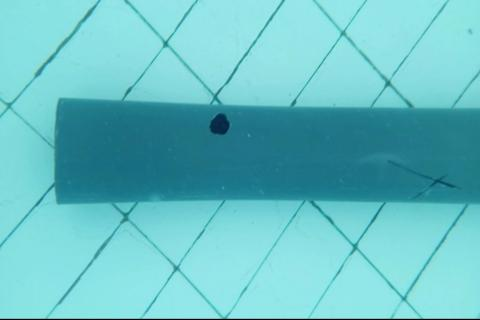kebocoran: (208, 110, 231, 137)
keretakan: (386, 157, 458, 198)
